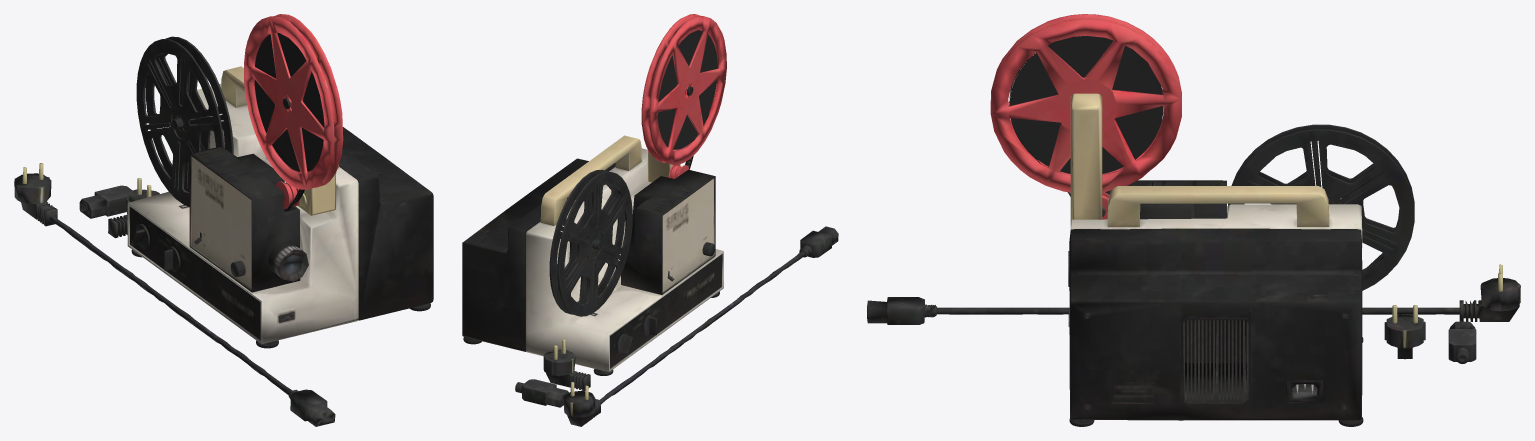
Rendered from filmstrip_projector_8mm.glb.
3 views of the same model, side by side, from view 1: azimuth 30°, elevation 25°; view 2: azimuth 150°, elevation 25°; view 3: azimuth 270°, elevation 25° (orthographic). The views are drawn at different scales.
Parts seen in each view (by area): view 1: filmstrip_projector_8mm_takeup_holder; view 2: filmstrip_projector_8mm_takeup_holder; view 3: filmstrip_projector_8mm_takeup_holder.
Boxes of the visible parts, x1=… form: filmstrip_projector_8mm_takeup_holder: x1=14, y1=14, x2=433, y2=426; filmstrip_projector_8mm_takeup_holder: x1=462, y1=14, x2=838, y2=426; filmstrip_projector_8mm_takeup_holder: x1=867, y1=14, x2=1520, y2=426.
Bounding box in the file's own units: 0.2537 × 0.3454 × 0.6026.
Materials: 2 (2 with a texture image).
